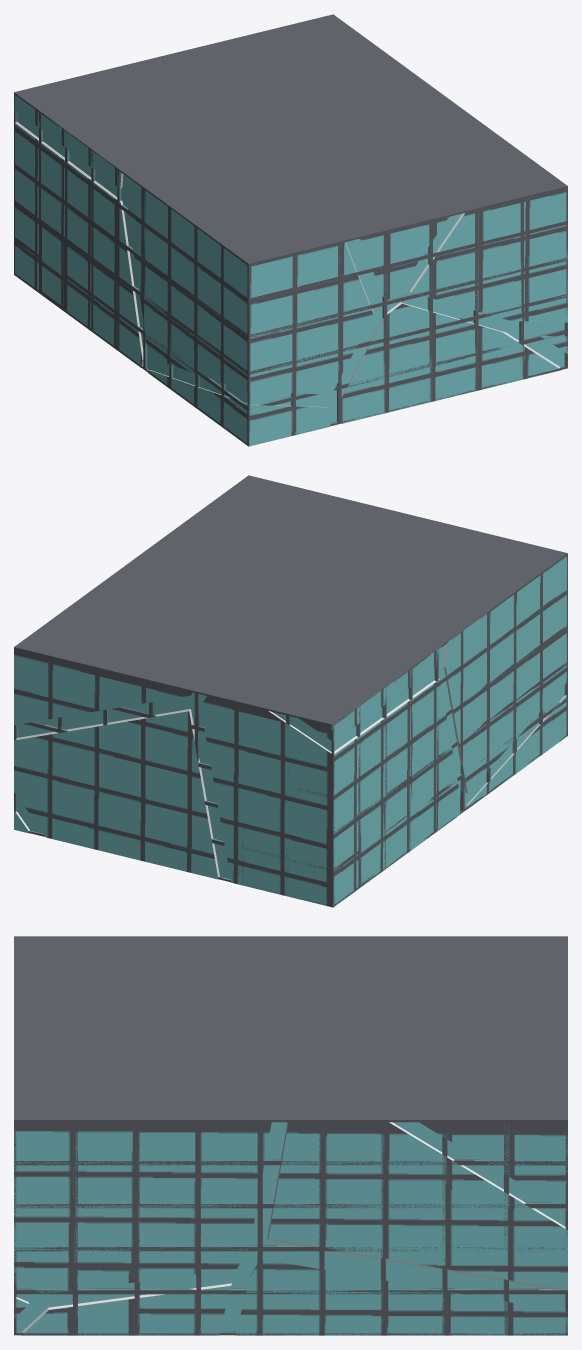
The model's file is Building01_02_correct backup.fbx.
3 views of the same model, one above another, from view 1: azimuth 30°, elevation 25°; view 2: azimuth 150°, elevation 25°; view 3: azimuth 270°, elevation 25° (orthographic). The views are drawn at different scales.
Visible parts, largest first — view 1: batiment full, Cube_cell.001, Cube_cell.002, Cube_cell.004, Cube_cell.010, Cube_cell, Cube_cell.008, Cube_cell.003; view 2: batiment full, Cube_cell.002, Cube_cell.009, Cube_cell.001, Cube_cell.007, Cube_cell, Cube_cell.003; view 3: batiment full, Cube_cell.010, Cube_cell.009, Cube_cell.006, Cube_cell.004, Cube_cell.007.
Boxes of the visible parts, x1,y1,x2,y2 form: batiment full: (14, 14, 567, 445); Cube_cell.001: (126, 176, 373, 394); Cube_cell.002: (14, 122, 143, 367); Cube_cell.004: (340, 302, 561, 423); Cube_cell.010: (410, 188, 567, 322); Cube_cell: (148, 370, 330, 446); Cube_cell.008: (360, 217, 448, 300); Cube_cell.003: (14, 95, 123, 188); batiment full: (14, 475, 567, 906); Cube_cell.002: (200, 678, 461, 907); Cube_cell.009: (14, 709, 219, 879); Cube_cell.001: (444, 554, 567, 792); Cube_cell.007: (14, 647, 193, 724); Cube_cell: (466, 695, 567, 809); Cube_cell.003: (296, 647, 440, 741); batiment full: (14, 936, 567, 1335); Cube_cell.010: (14, 1120, 271, 1293); Cube_cell.009: (267, 1120, 567, 1290); Cube_cell.006: (235, 1259, 567, 1335); Cube_cell.004: (21, 1283, 231, 1335); Cube_cell.007: (416, 1120, 567, 1210).
Size of the model in its own units: 5.5 by 3.01 by 7.
